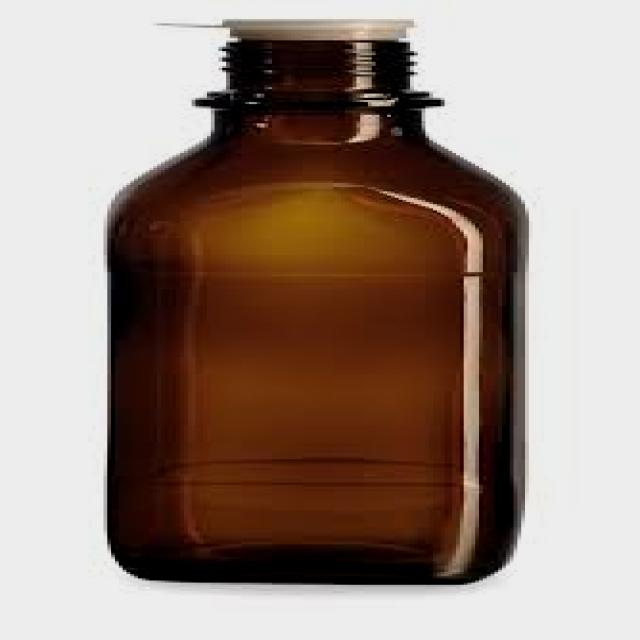inorganic: (100, 21, 482, 590)
